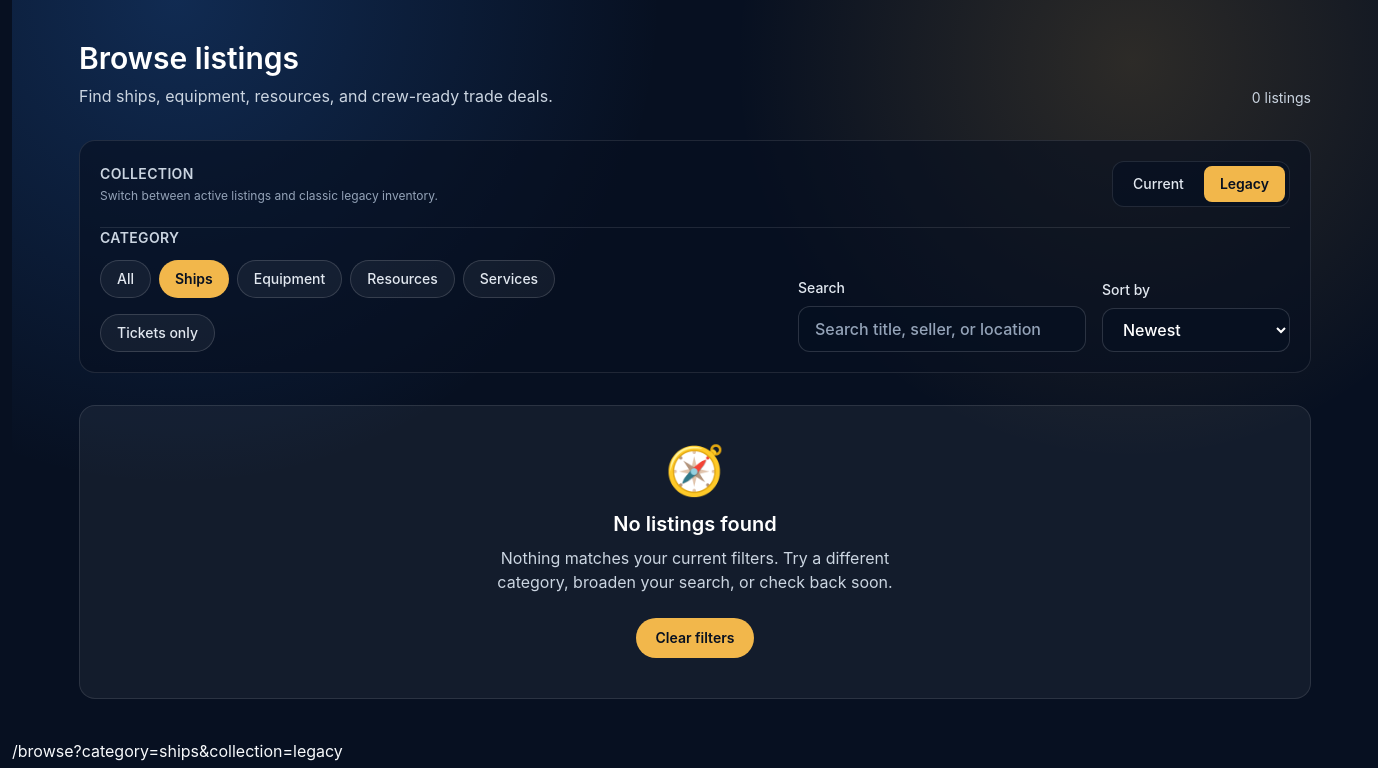
Test: BrowsePage › switches collections through shareable links while preserving active filters
The image size is (1378, 768).
Expected: the text "0 listings" is shown, [1252,88,1311,108]
Type "frigate" into the search field labelled "Search" at (942, 329), box [798,306,1086,352]
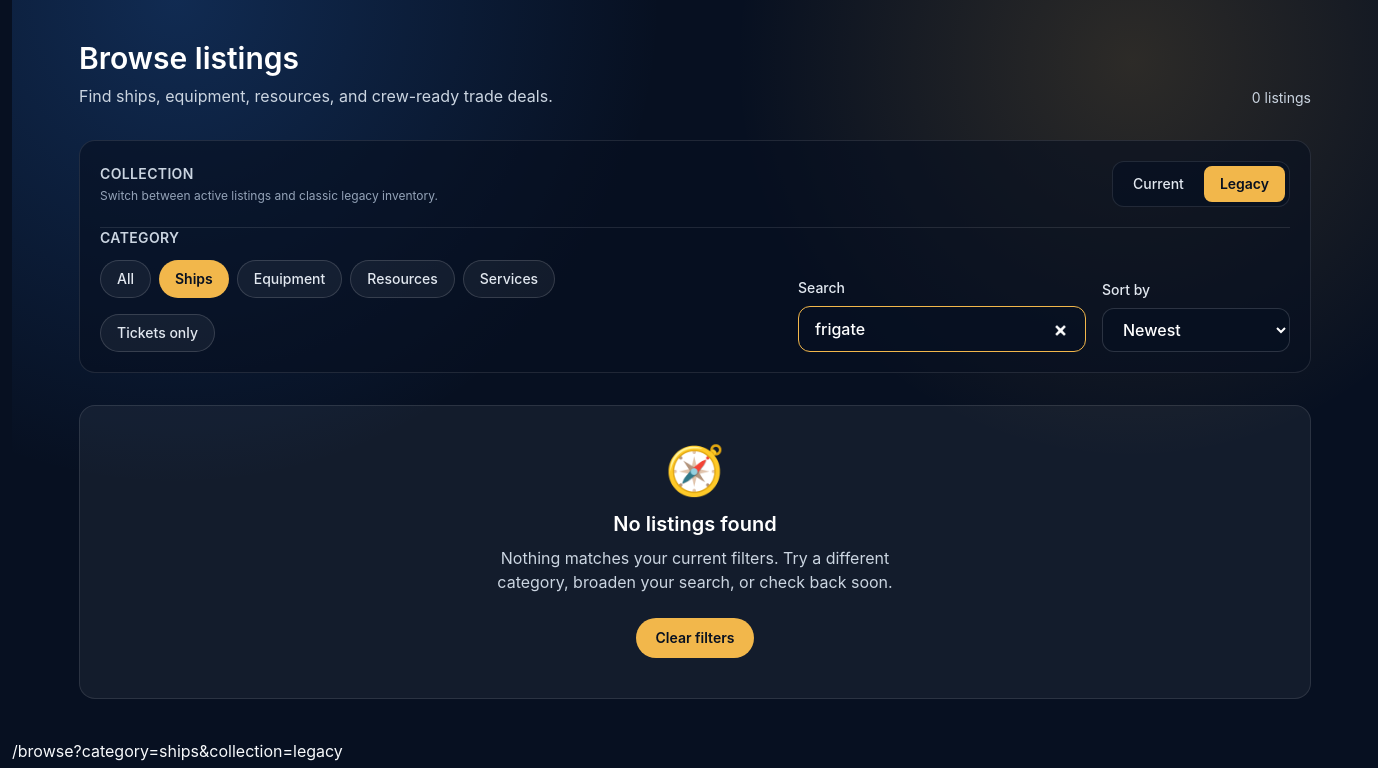
Select "Price high-to-low" in the dropdown labelled "Sort by" at (1196, 330), box [1102,308,1290,352]
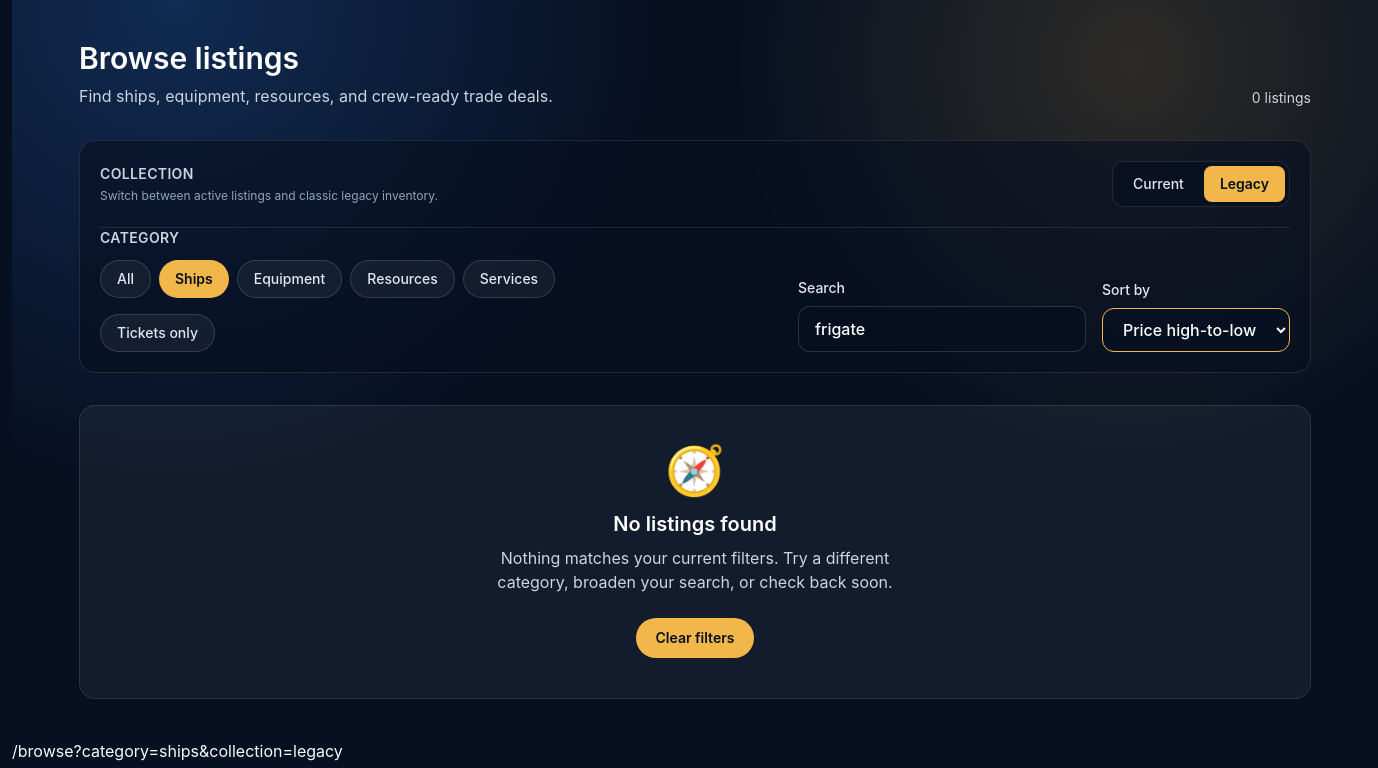
Click the link "Current" at (1158, 184), box [1133,175,1184,192]
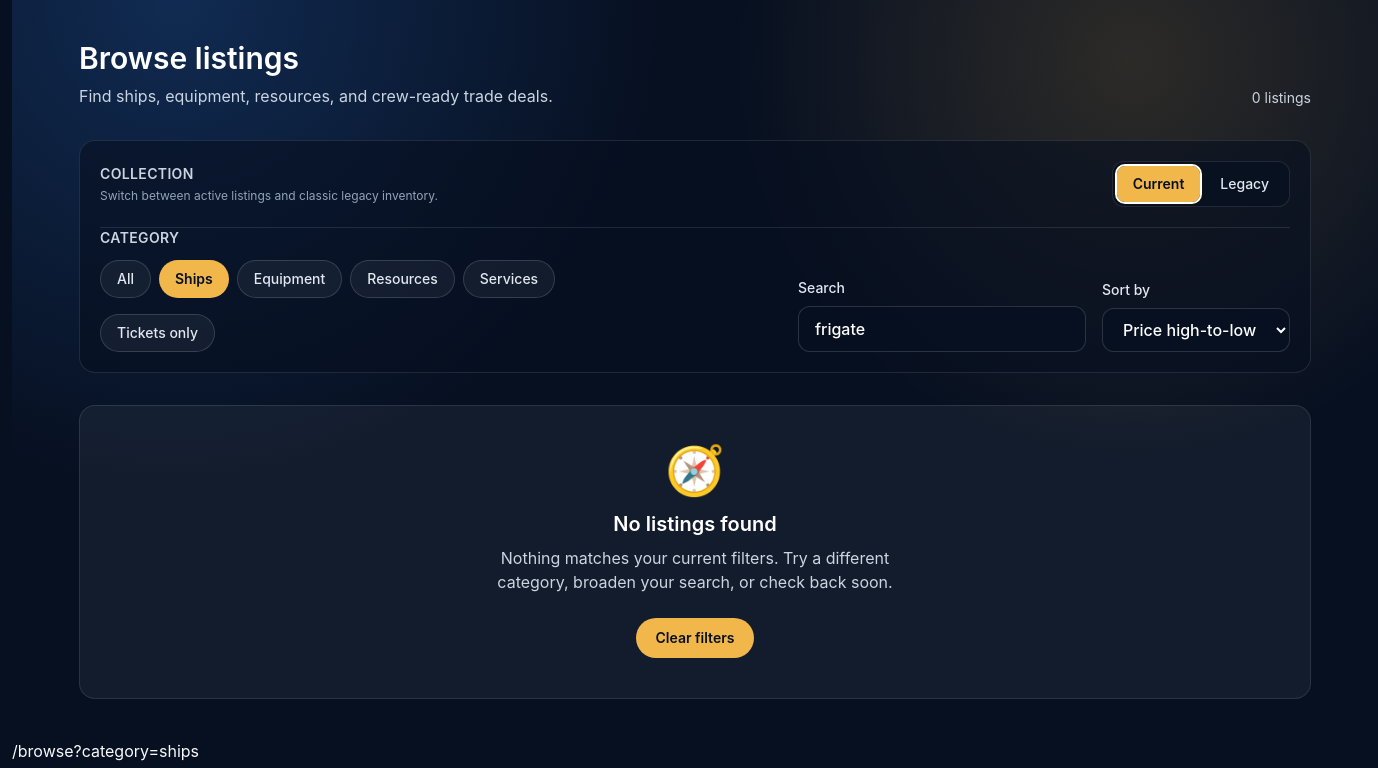
Expected: the text "/browse?category=ships" is shown, [12,741,199,761]
Click the link "Legacy" at (1245, 184), box [1220,175,1269,192]
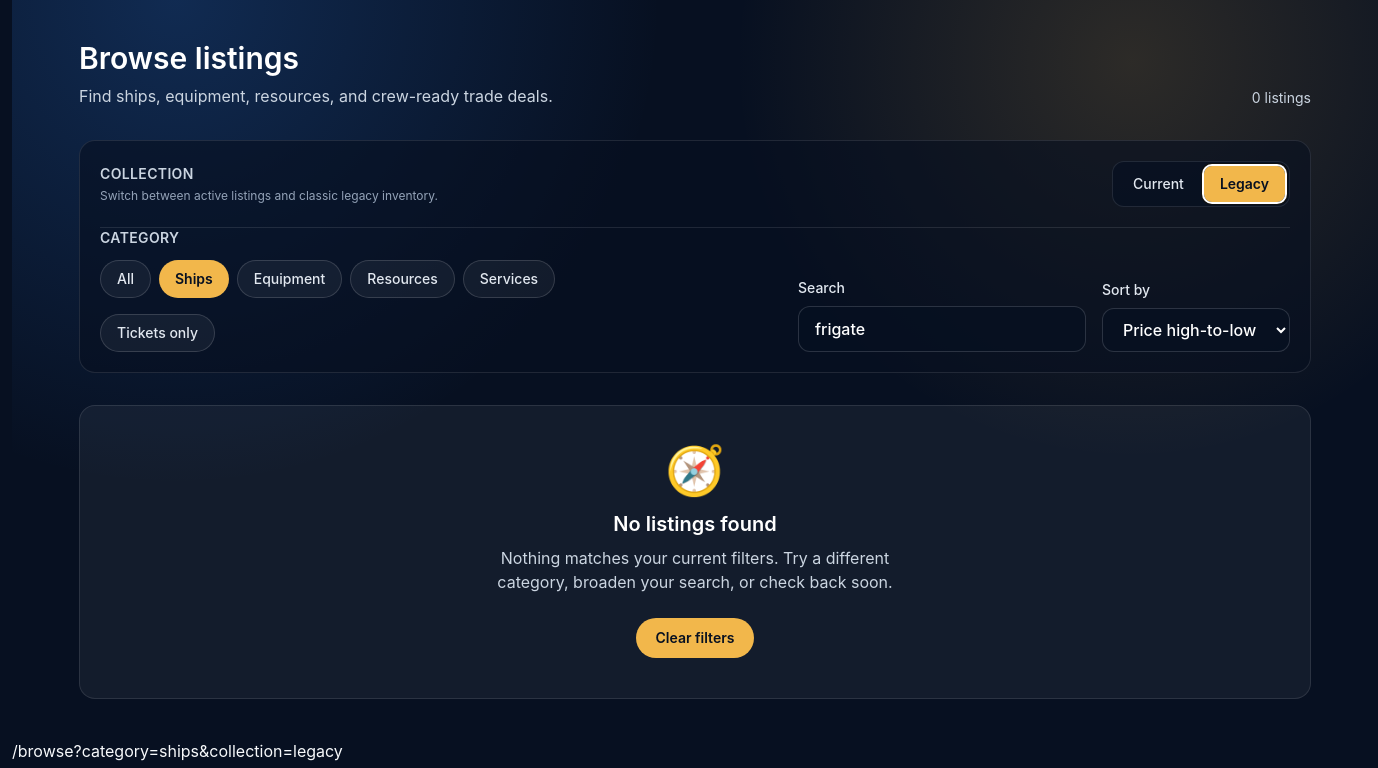
Result: the text "/browse?category=ships&collection=legacy" is shown at [12,741,343,761]
